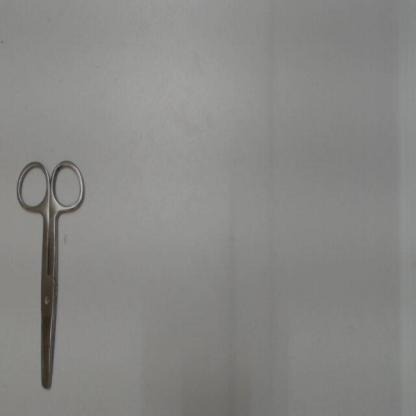Dressing Scissors: (6, 147, 94, 403)
